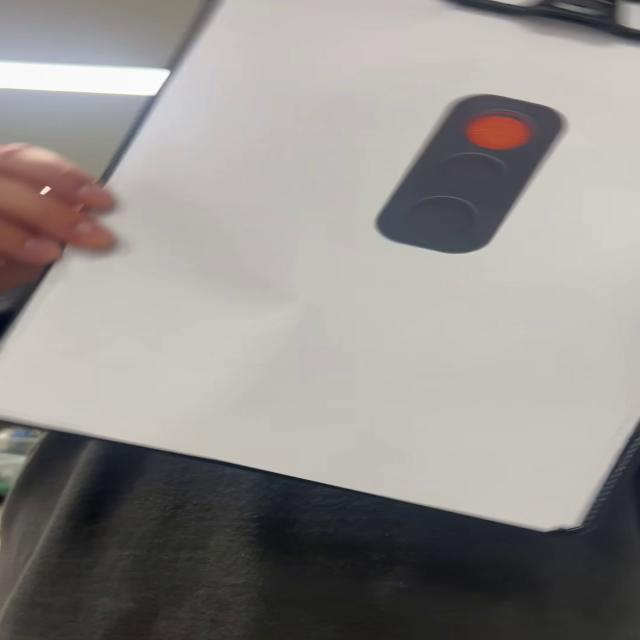red: (375, 94, 569, 256)
